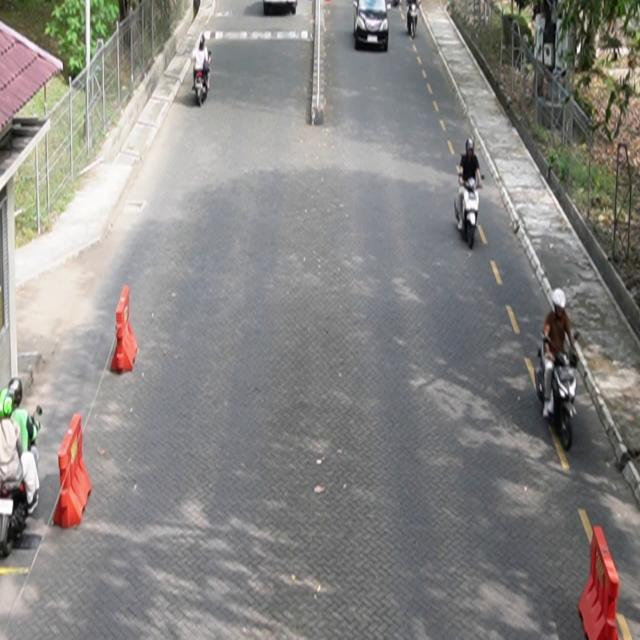car: (354, 1, 390, 53), (264, 1, 299, 16)
